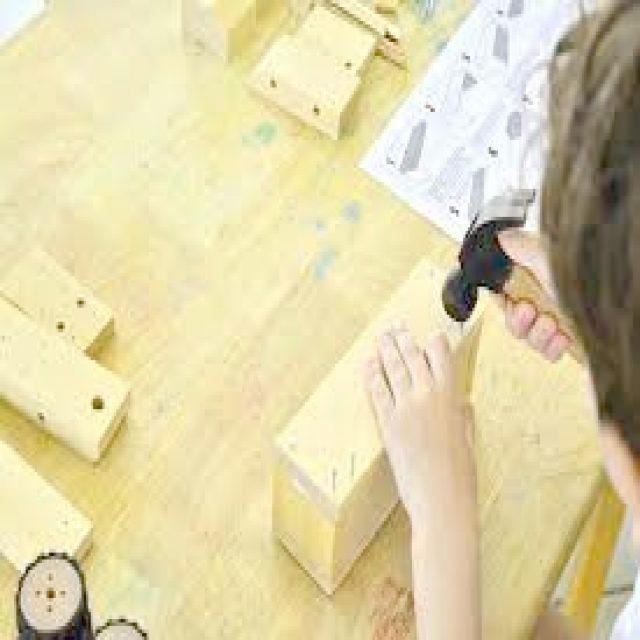hammer: (428, 172, 594, 382)
